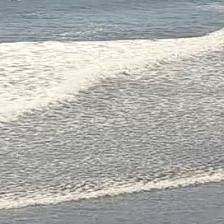surfer: (8, 0, 18, 3)
